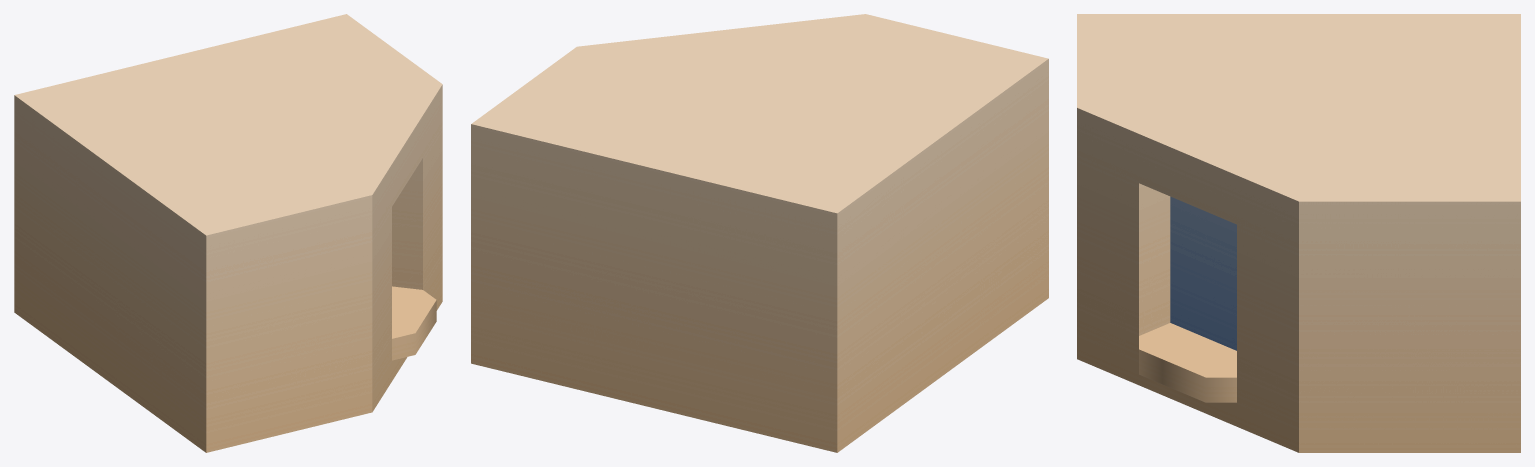
Rendered from building-corner-window-sill.glb.
The picture shows the model from 3 angles, left to right: view 1: azimuth 30°, elevation 25°; view 2: azimuth 150°, elevation 25°; view 3: azimuth 270°, elevation 25°; orthographic projection. The views are drawn at different scales.
Parts seen in each view (by area): view 1: building-corner-window-sill; view 2: building-corner-window-sill; view 3: building-corner-window-sill.
Boxes of the visible parts, x1,y1,x2,y2 form: building-corner-window-sill: (14,14,442,452); building-corner-window-sill: (471,14,1048,452); building-corner-window-sill: (1077,14,1520,452).
Bounding box in the file's own units: 1 × 0.625 × 1.
1 material, 1 textured.
